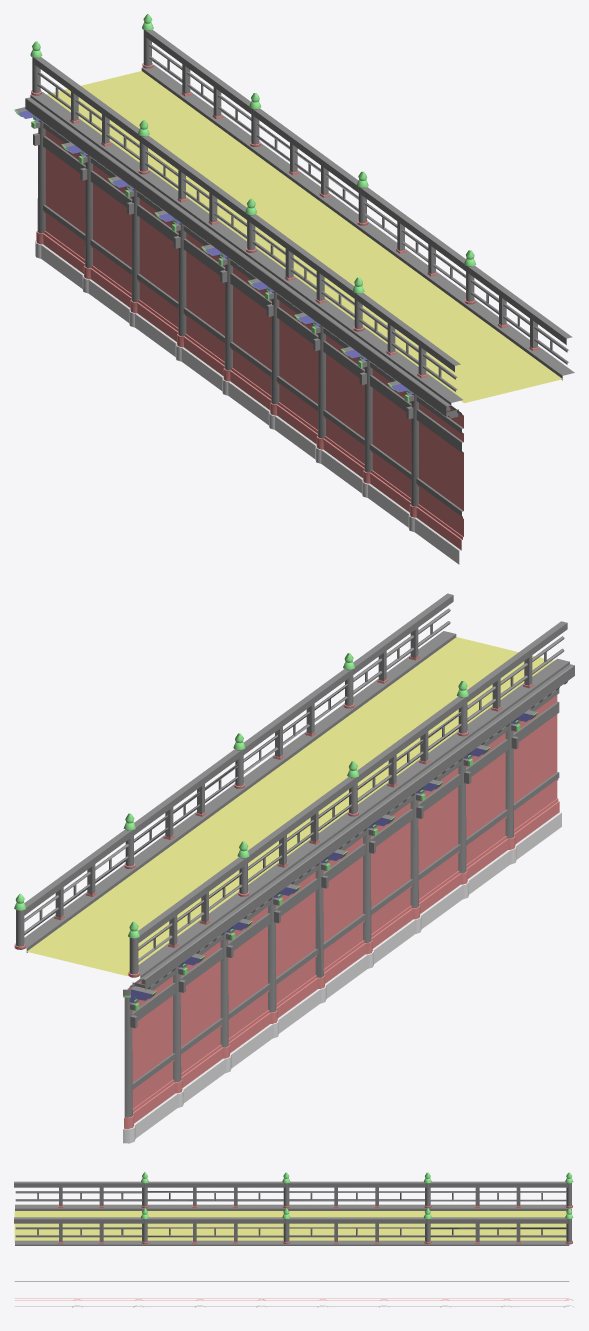
Rendered from SM_ENV_LKNVLD_WallSet_Straight_Lod1.gltf.
3 renders of one model, top to bottom at view 1: azimuth 30°, elevation 25°; view 2: azimuth 150°, elevation 25°; view 3: azimuth 270°, elevation 25°, orthographic. The views are drawn at different scales.
Visible parts, largest first — view 1: SM_ENV_LKNVLD_WallSet_Straight_Lod1; view 2: SM_ENV_LKNVLD_WallSet_Straight_Lod1; view 3: SM_ENV_LKNVLD_WallSet_Straight_Lod1.
Boxes of the visible parts, box(x1,y1,x2,y2) form: SM_ENV_LKNVLD_WallSet_Straight_Lod1: box(14, 14, 574, 564); SM_ENV_LKNVLD_WallSet_Straight_Lod1: box(14, 593, 574, 1143); SM_ENV_LKNVLD_WallSet_Straight_Lod1: box(14, 1172, 574, 1307).
Size of the model in its own units: 5.58 by 8.33 by 29.87.
